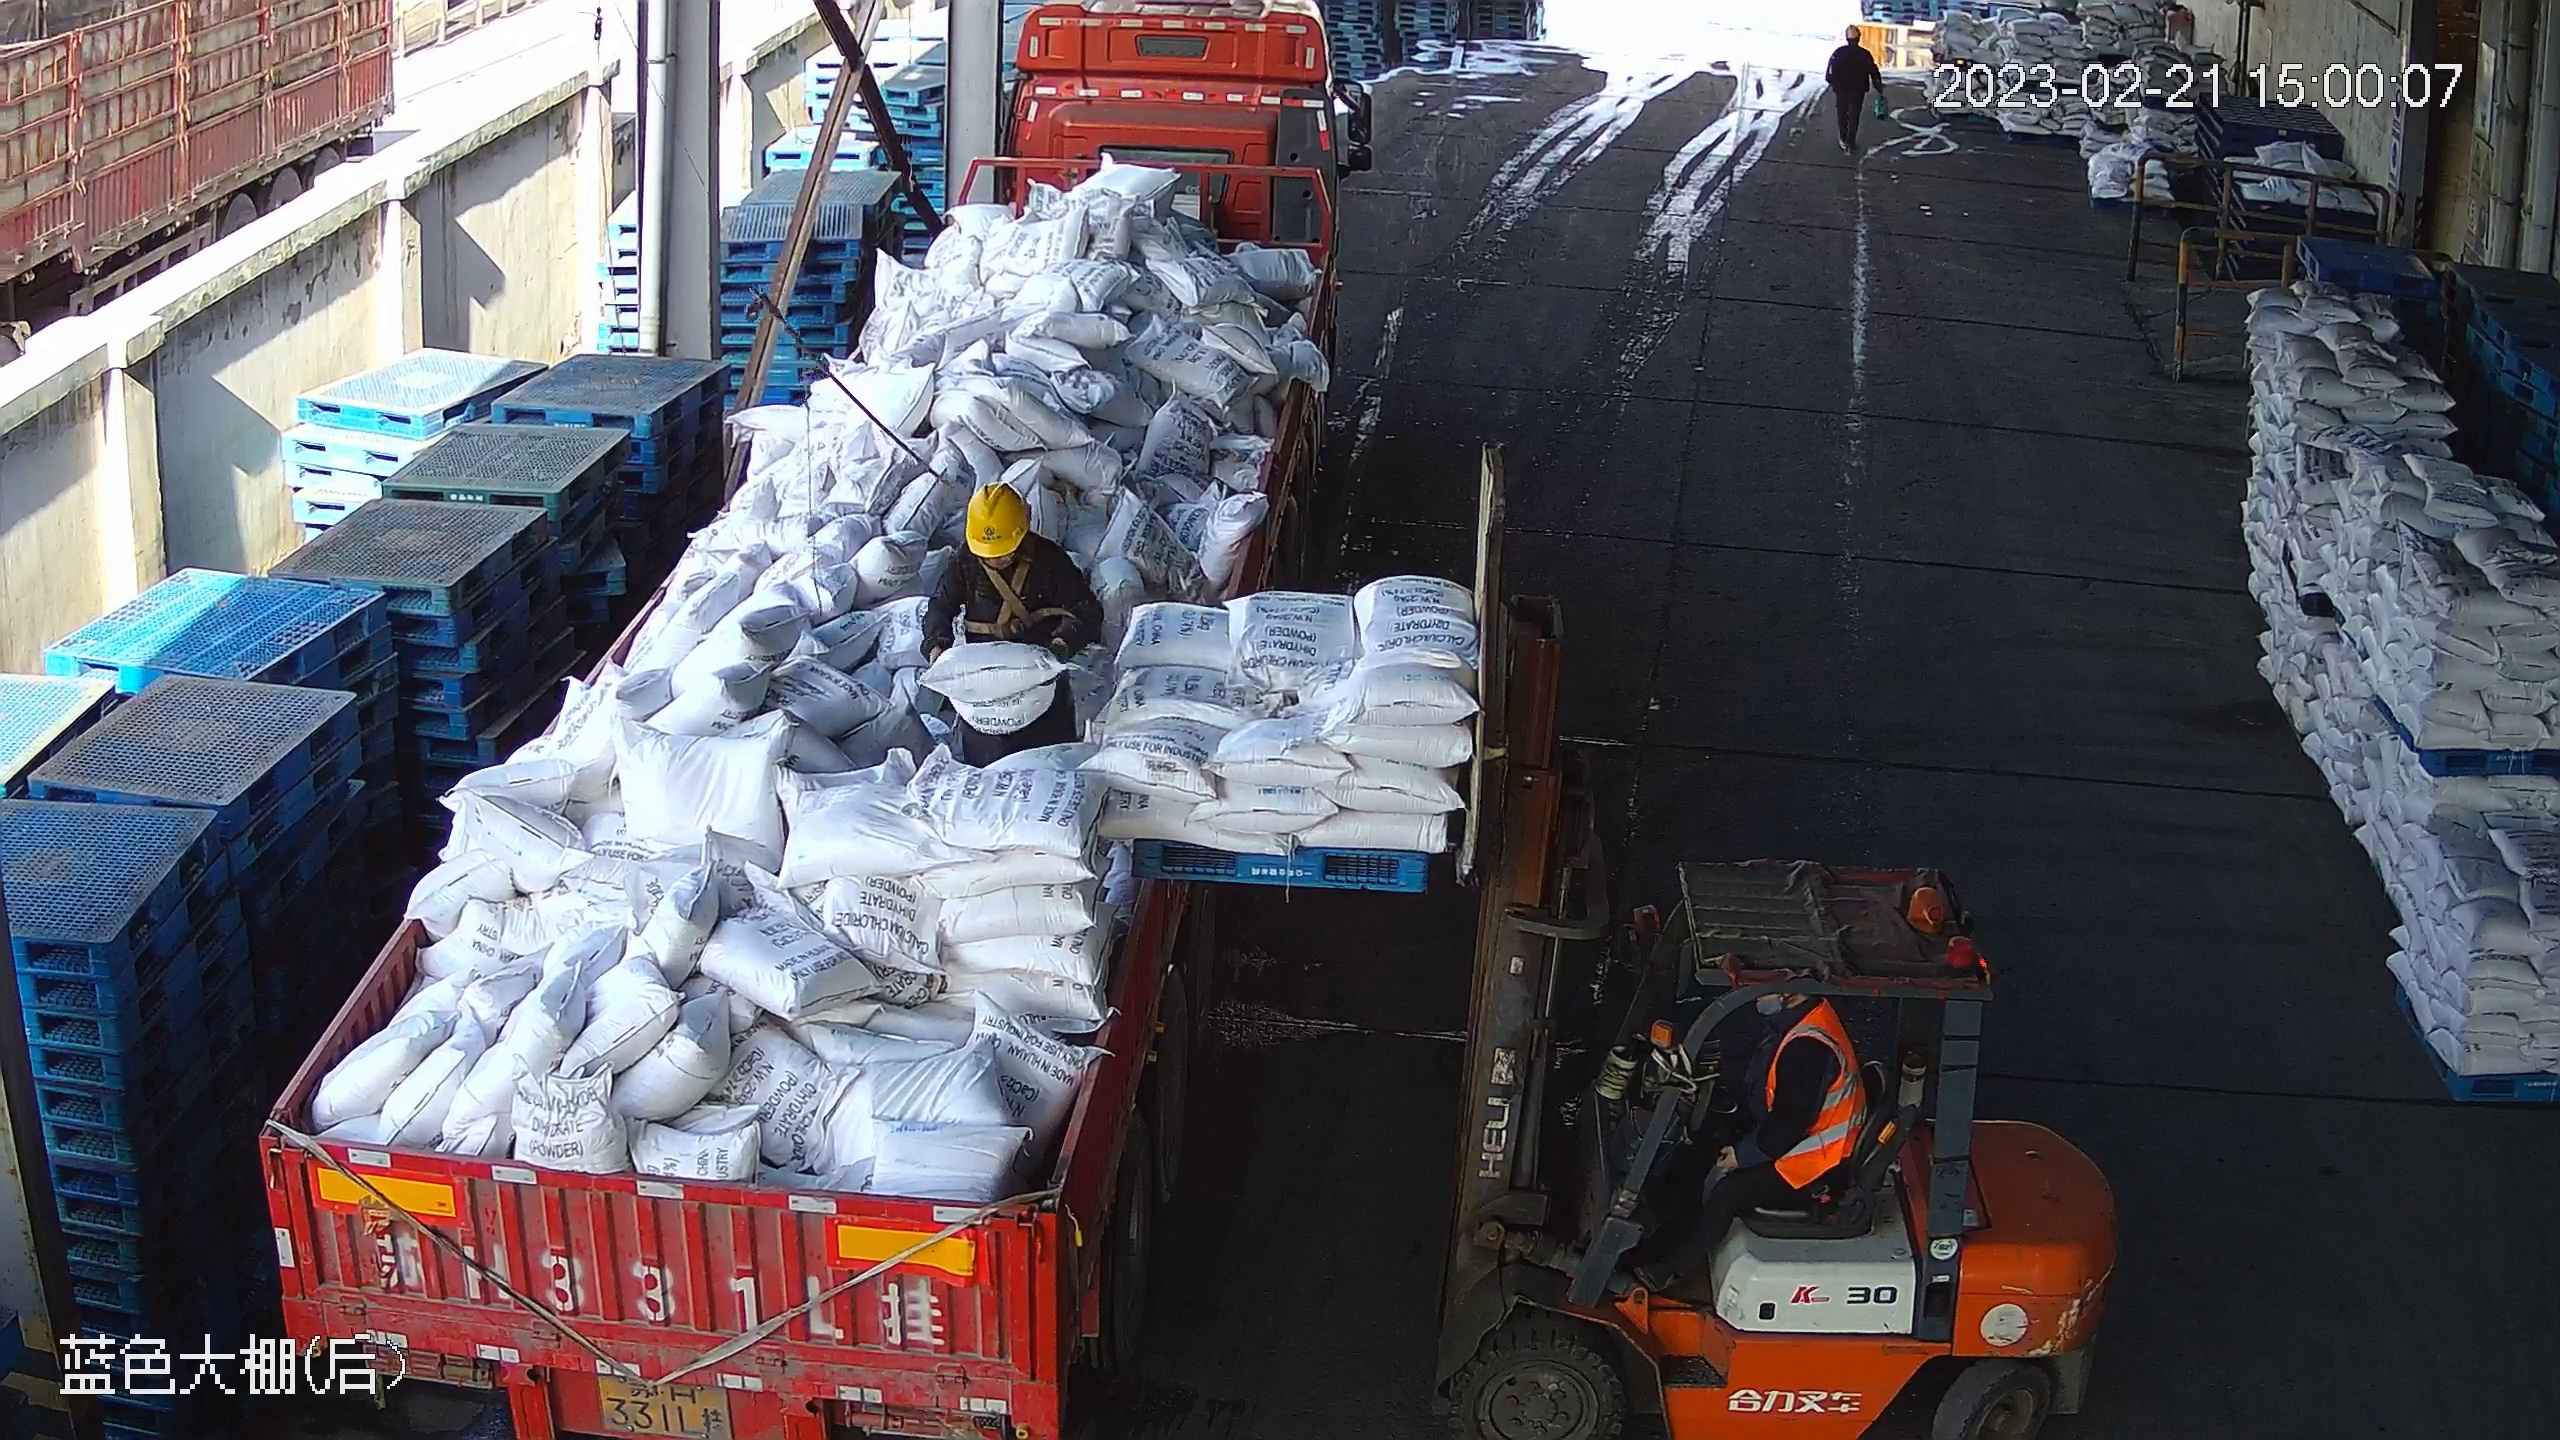belt: (952, 557, 1059, 639)
head: (929, 479, 1073, 610), (1825, 23, 1883, 82)
helmet: (966, 484, 1032, 559), (1842, 23, 1862, 39)
people: (1635, 989, 1883, 1306), (918, 483, 1100, 764), (1825, 28, 1890, 157)
truck: (247, 8, 1384, 1440)
